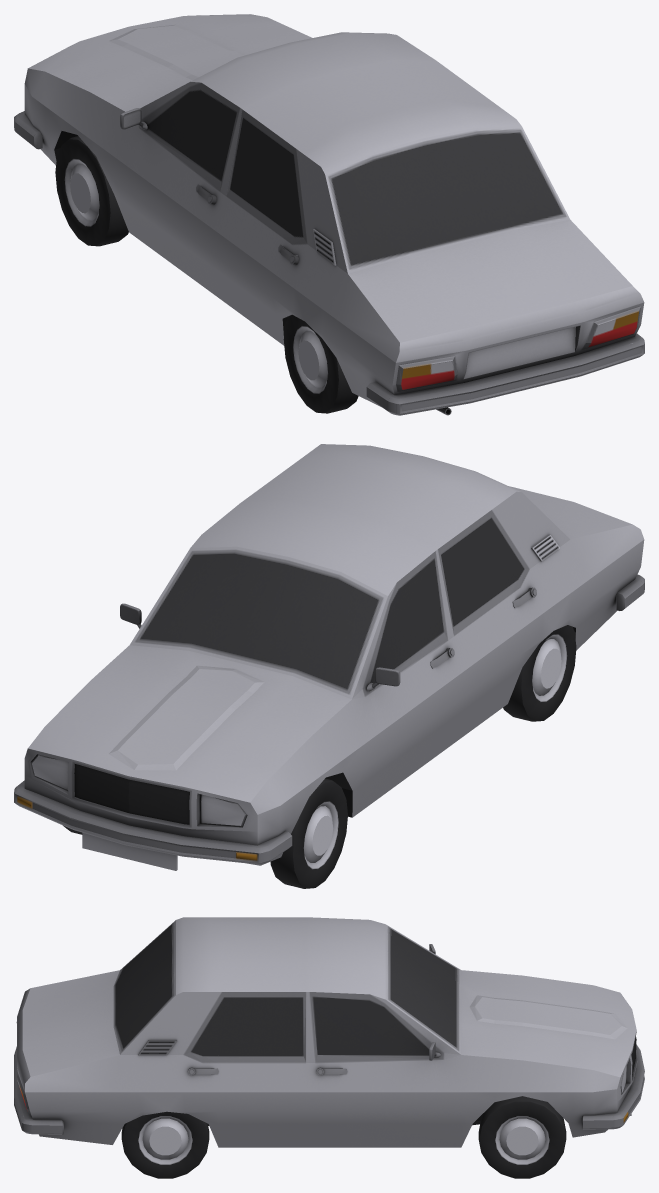
File: Car02.FBX
3 renders of one model, top to bottom at view 1: azimuth 30°, elevation 25°; view 2: azimuth 150°, elevation 25°; view 3: azimuth 270°, elevation 25°, orthographic. The views are drawn at different scales.
Visible parts, largest first — view 1: Body, FLWheel, RLWheel; view 2: Body, FLWheel, RLWheel; view 3: Body, FRWheel, RRWheel.
Boxes of the visible parts, <box> form: Body: <box>14,14,644,415</box>; FLWheel: <box>55,136,128,246</box>; RLWheel: <box>283,315,358,413</box>; Body: <box>14,444,644,870</box>; FLWheel: <box>270,778,347,888</box>; RLWheel: <box>503,625,576,721</box>; Body: <box>14,917,644,1147</box>; FRWheel: <box>478,1096,566,1178</box>; RRWheel: <box>121,1111,209,1178</box>.
Bounding box in the file's own units: 1.73 × 1.45 × 4.33.
2 materials, 2 textured.
